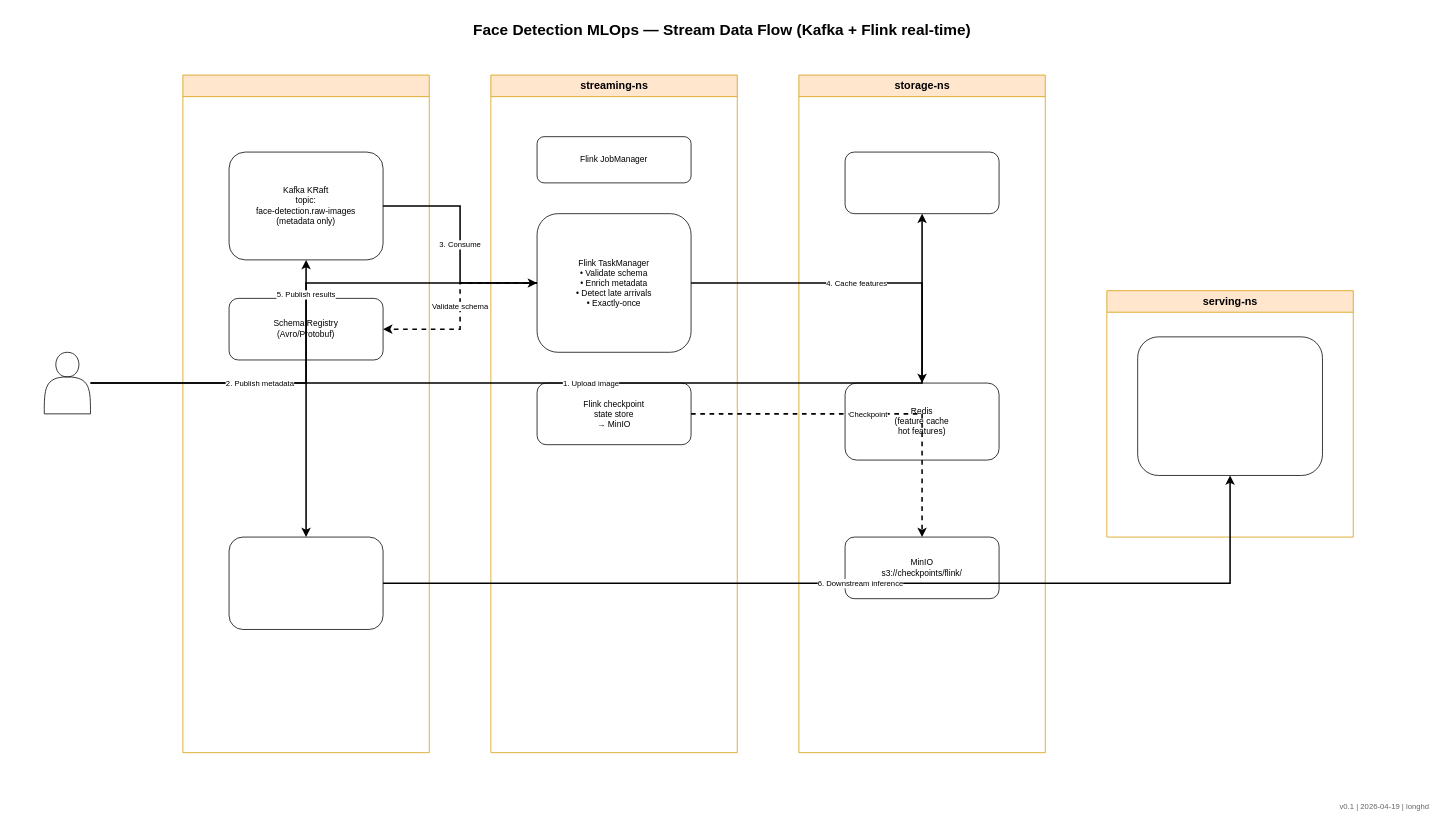
This 1443x827 diagram has some shape labels left out. The box of each missing label's shape, as (x1, y1, x2, y2) in pixels:
Camera / API Producer: (44, 352, 90, 414)
ingestion-ns: (182, 74, 429, 753)
Kafka topic: face-detection.validated-images + inference-results: (228, 536, 383, 629)
KServe InferenceService (consume results): (1137, 336, 1322, 475)
MinIO s3://raw/camera-feed/: (844, 151, 999, 214)
